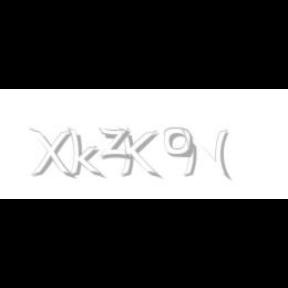K: (118, 128, 158, 180)
N: (180, 128, 230, 180)
X: (29, 128, 73, 180)
k: (67, 128, 105, 180)
o: (164, 128, 192, 158)
z: (98, 128, 134, 160)
